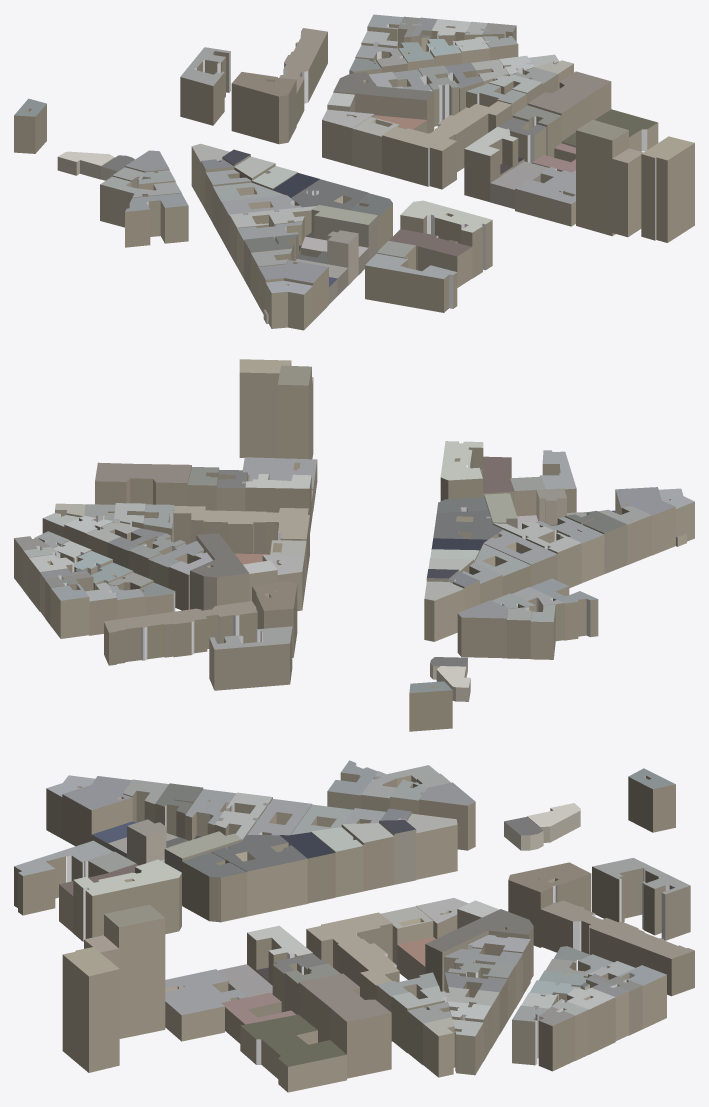
The picture shows the model from 3 angles, top to bottom: view 1: azimuth 30°, elevation 25°; view 2: azimuth 150°, elevation 25°; view 3: azimuth 270°, elevation 25°; orthographic projection. The views are drawn at different scales.
Visible parts, largest first — view 1: tuile; view 2: tuile; view 3: tuile.
Part boxes in pixels (box(x1,y1,x2,y2)): tuile: box(14, 14, 694, 330); tuile: box(14, 359, 694, 731); tuile: box(14, 760, 694, 1092).
Size of the model in its own units: 282 by 52.63 by 281.
